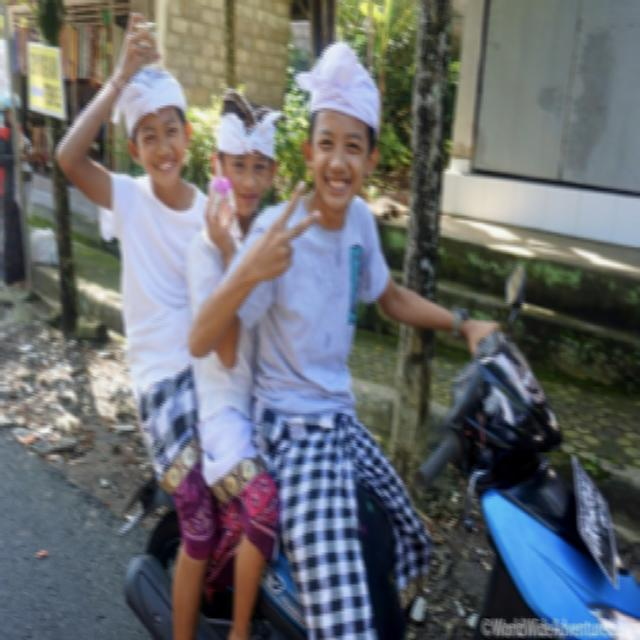Without Helmet: (292, 27, 386, 220)
